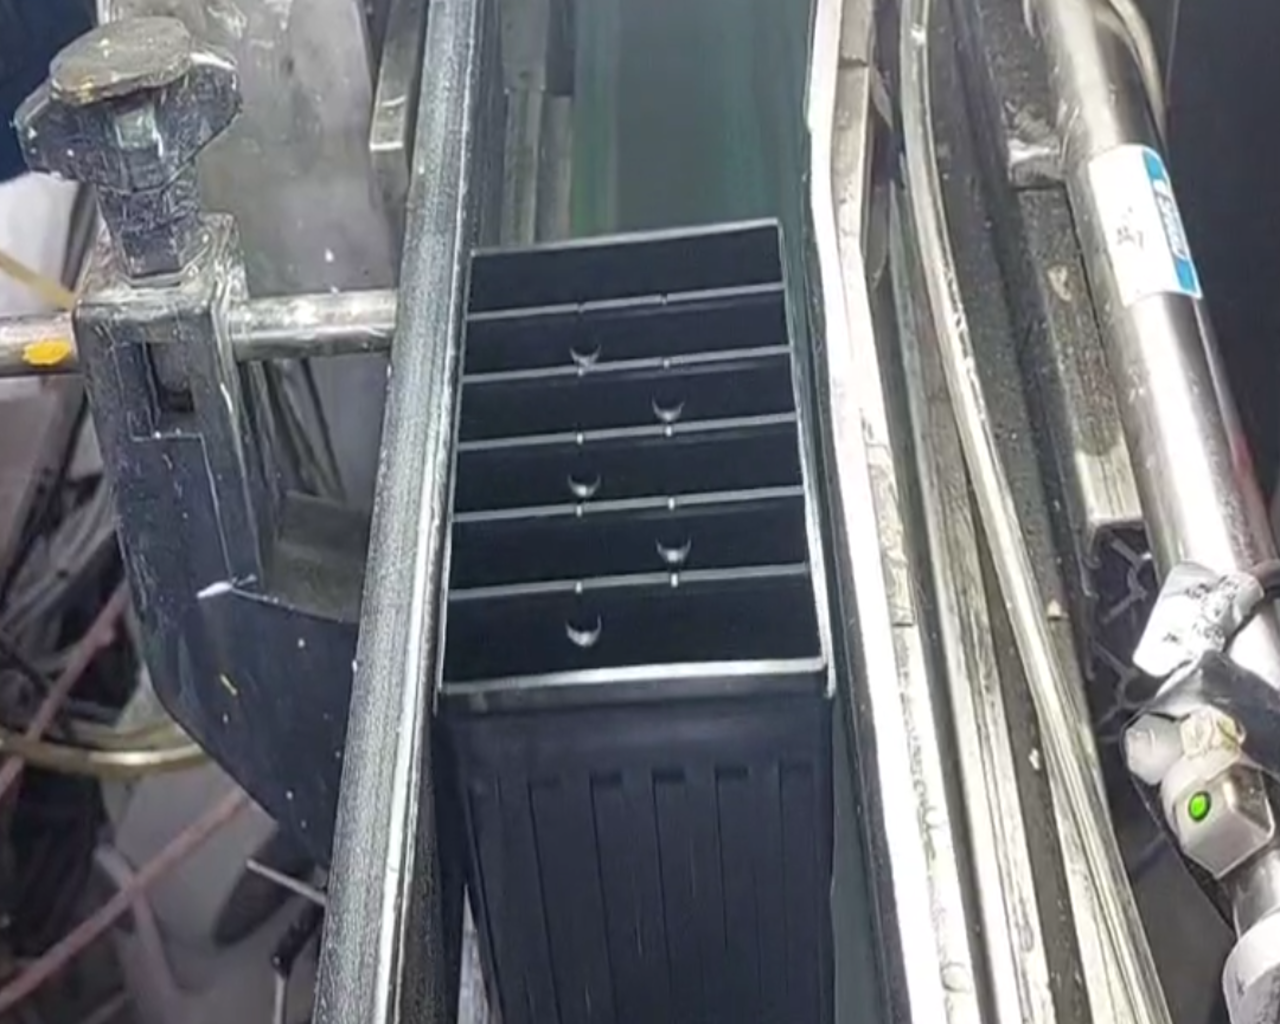box: (422, 207, 858, 728)
round: (634, 511, 706, 574), (545, 591, 618, 654), (552, 450, 613, 507), (636, 374, 696, 432), (554, 318, 615, 373)
